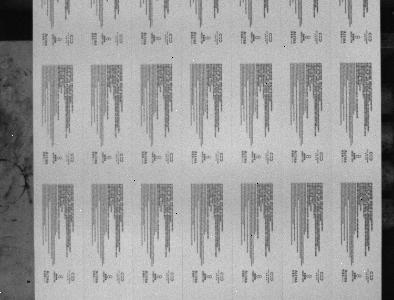backgroundclutter: (27, 280, 30, 283)
